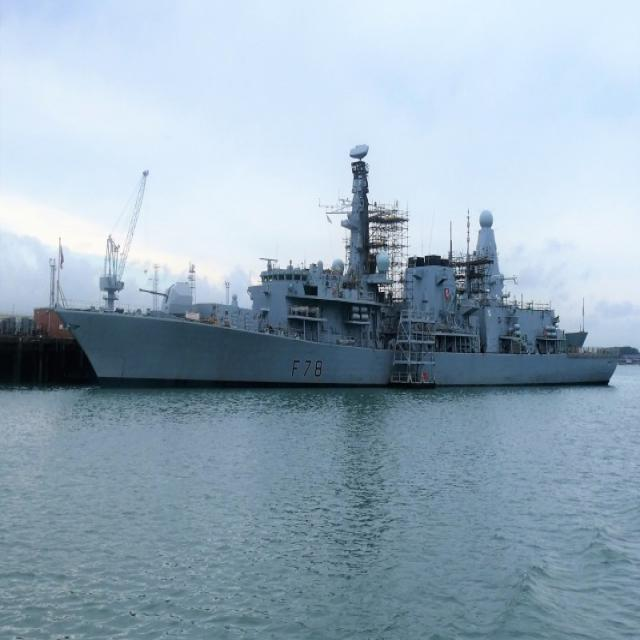Fragata: (56, 139, 619, 391)
